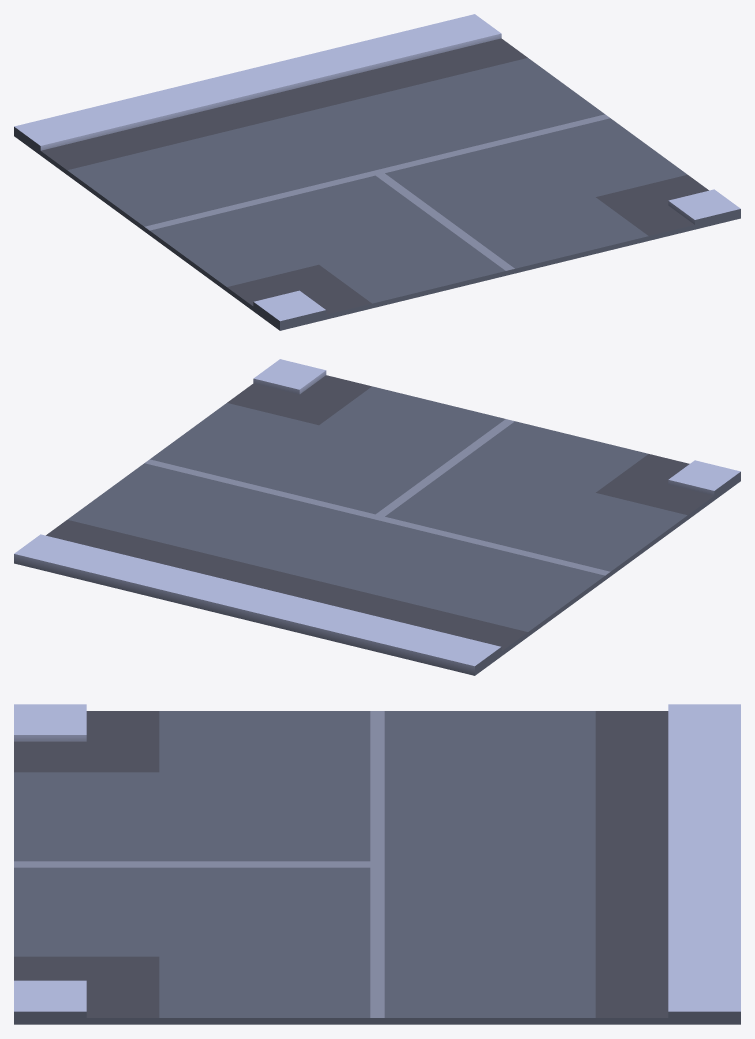
File: road-intersection-line.glb
3 renders of one model, top to bottom at view 1: azimuth 30°, elevation 25°; view 2: azimuth 150°, elevation 25°; view 3: azimuth 270°, elevation 25°, orthographic. The views are drawn at different scales.
Parts seen in each view (by area): view 1: road-intersection-line; view 2: road-intersection-line; view 3: road-intersection-line.
Boxes of the visible parts, box(x1,y1,x2,y2) form: road-intersection-line: box(14, 14, 740, 330); road-intersection-line: box(14, 359, 740, 675); road-intersection-line: box(14, 704, 740, 1024).
Size of the model in its own units: 1 by 0.02 by 1.
1 material, 1 textured.
